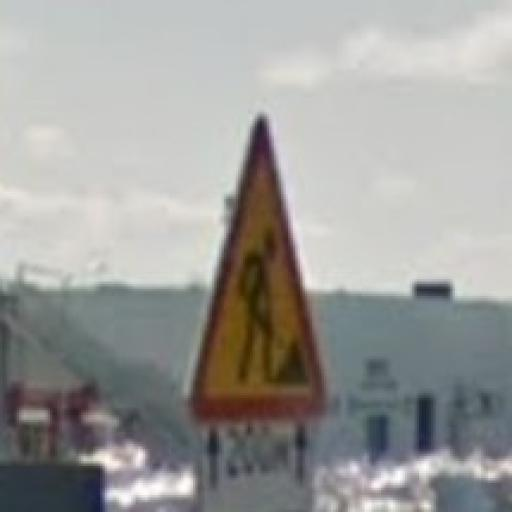traffic_sign: (189, 115, 327, 421)
